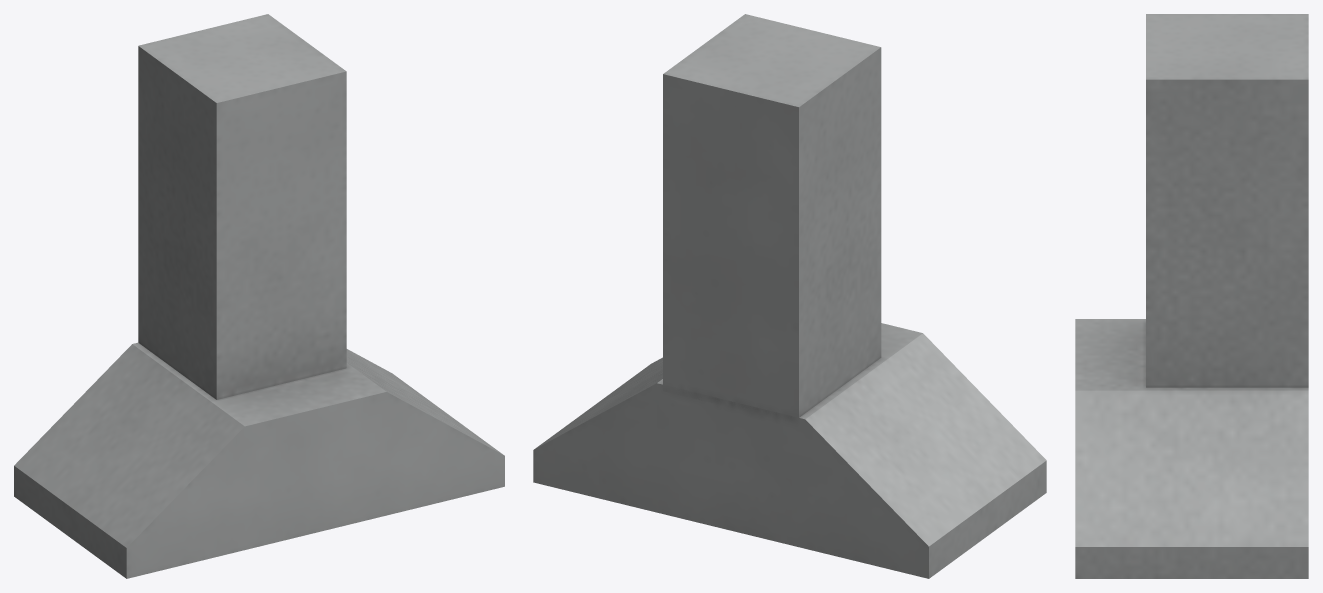
The model's file is H_RangeHood.fbx.
3 views of the same model, side by side, from view 1: azimuth 30°, elevation 25°; view 2: azimuth 150°, elevation 25°; view 3: azimuth 270°, elevation 25° (orthographic). The views are drawn at different scales.
Parts seen in each view (by area): view 1: H_RangeHood; view 2: H_RangeHood; view 3: H_RangeHood.
Boxes of the visible parts, <box> form: H_RangeHood: <box>14,14,504,578</box>; H_RangeHood: <box>533,14,1046,578</box>; H_RangeHood: <box>1075,14,1308,578</box>.
Bounding box in the file's own units: 320 × 344 × 165.
Materials: 1 (1 with a texture image).
